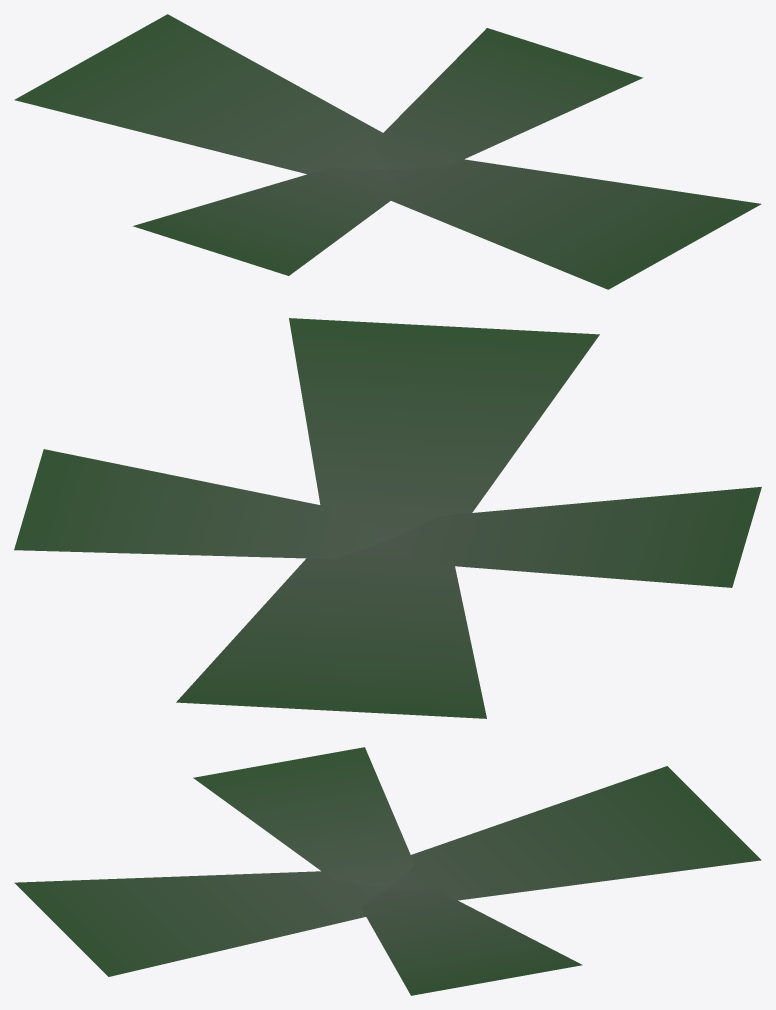
File: Accent_Plantain.glb
The picture shows the model from 3 angles, top to bottom: view 1: azimuth 30°, elevation 25°; view 2: azimuth 150°, elevation 25°; view 3: azimuth 270°, elevation 25°; orthographic projection. The views are drawn at different scales.
Visible parts, largest first — view 1: Accent_Plantain; view 2: Accent_Plantain; view 3: Accent_Plantain.
Part boxes in pixels (x1=…): Accent_Plantain: x1=14, y1=14, x2=761, y2=289; Accent_Plantain: x1=14, y1=318, x2=761, y2=718; Accent_Plantain: x1=14, y1=747, x2=761, y2=995.
Bounding box in the file's own units: 0.0631 × 0.002 × 0.0801.
